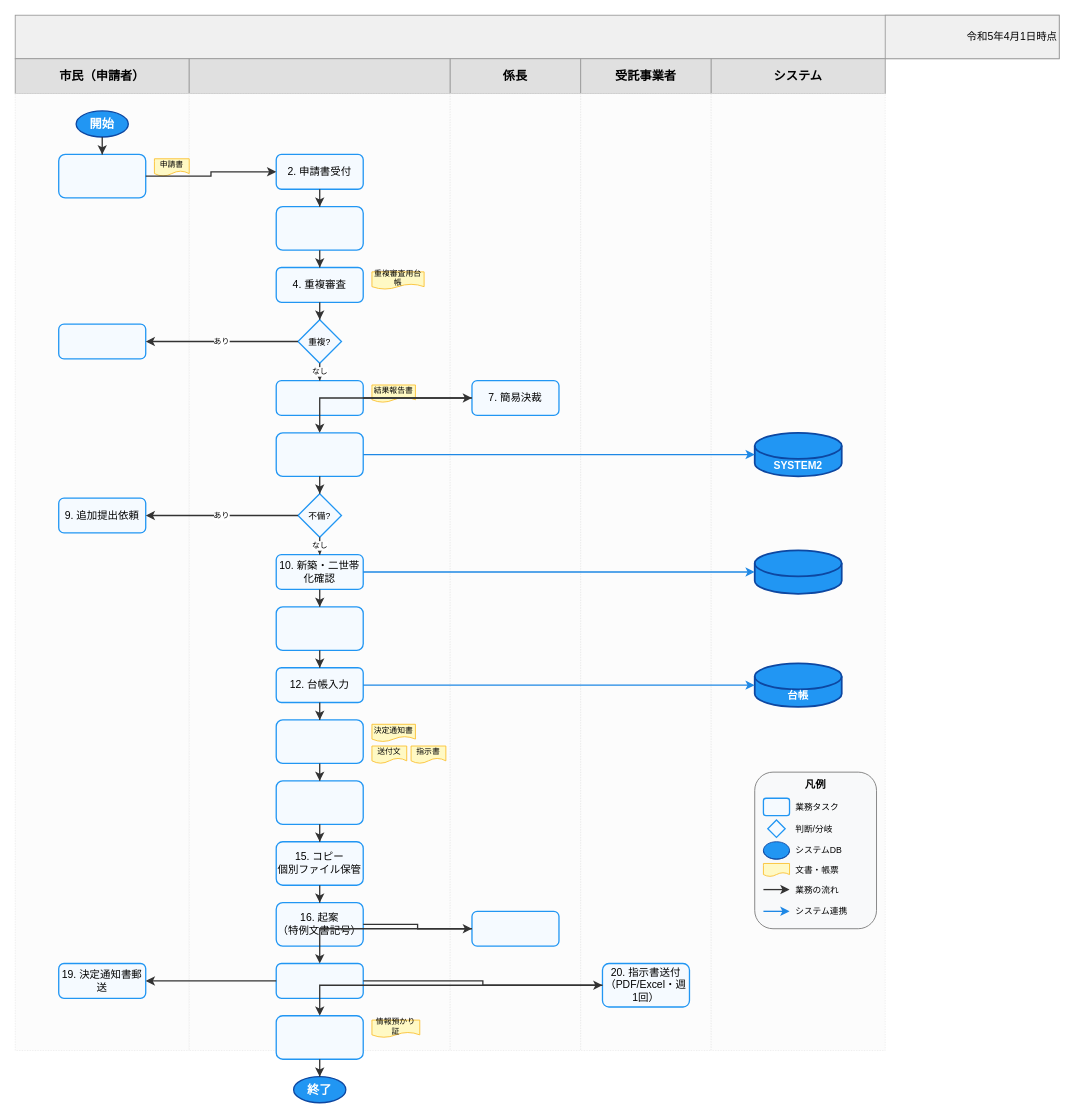
The diagram is 1074 pixels wide and 1119 high, and some of its shapes have lost their labels. Here are the shapes that lost their labels. From the top down, the box of each, then its label:
(14, 14, 1059, 59): 地震対策器具取付け支援申請事務処理フロー「申請書受付け」～「施行」
(188, 58, 450, 94): 担当職員
(58, 153, 146, 198): 1. 申請書提出 （郵送/窓口/相談会）
(275, 206, 363, 250): 3. 支援対象要件審査 （❶～❽）
(58, 323, 146, 359): 5. 重複通知
(275, 380, 363, 416): 6. 結果報告書作成
(275, 432, 363, 477): 8. 申請内容・ 添付証明書確認
(753, 549, 842, 594): DOCUMENT1
(275, 606, 363, 651): 11. 収受印押印 台帳連番記入
(275, 719, 363, 764): 13. 決定通知書作成 （特例管理帳票）
(275, 780, 363, 825): 14. 決定通知書印刷 市長公印押印
(471, 910, 559, 946): 17. 決裁
(275, 962, 363, 999): 18. 決定通知日入力
(275, 1015, 363, 1059): 21. 情報預かり証 受領・保存
